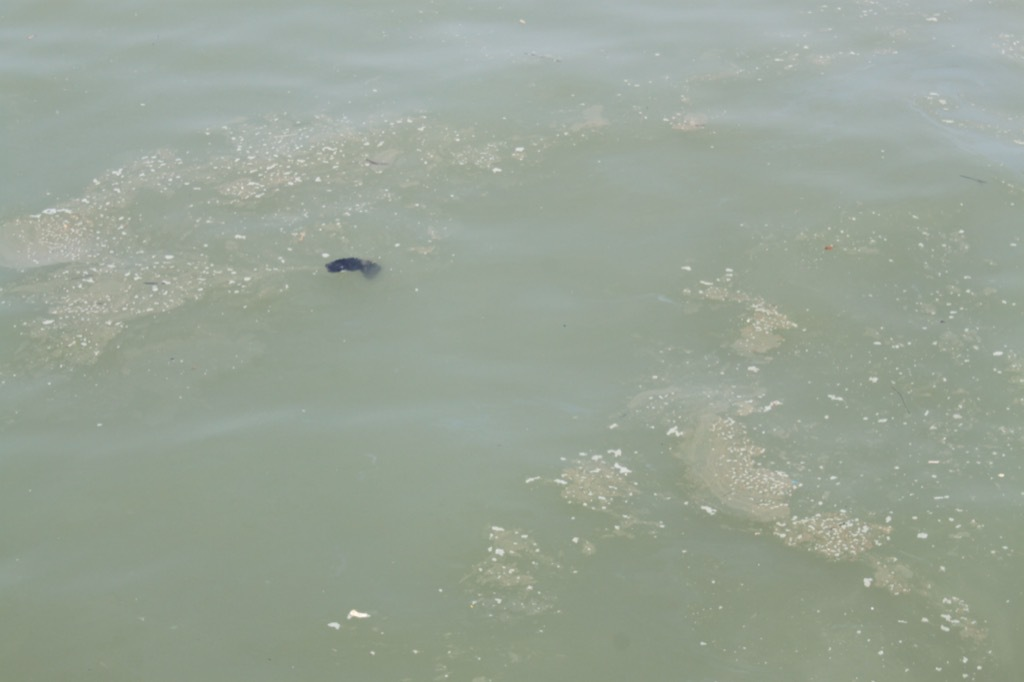plastic: (316, 246, 392, 283), (343, 603, 378, 629), (324, 616, 352, 640)
